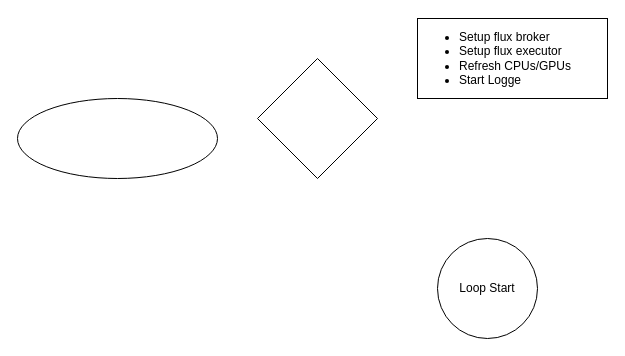
The diagram is 625 pixels wide and 356 high, and some of its shapes have lost their labels. Here are the shapes that lost their labels. From the top down, the centre of each, then its label:
At pixel 117 138: "Fluxmanager.run()".
At pixel 317 118: "Restarting?".
